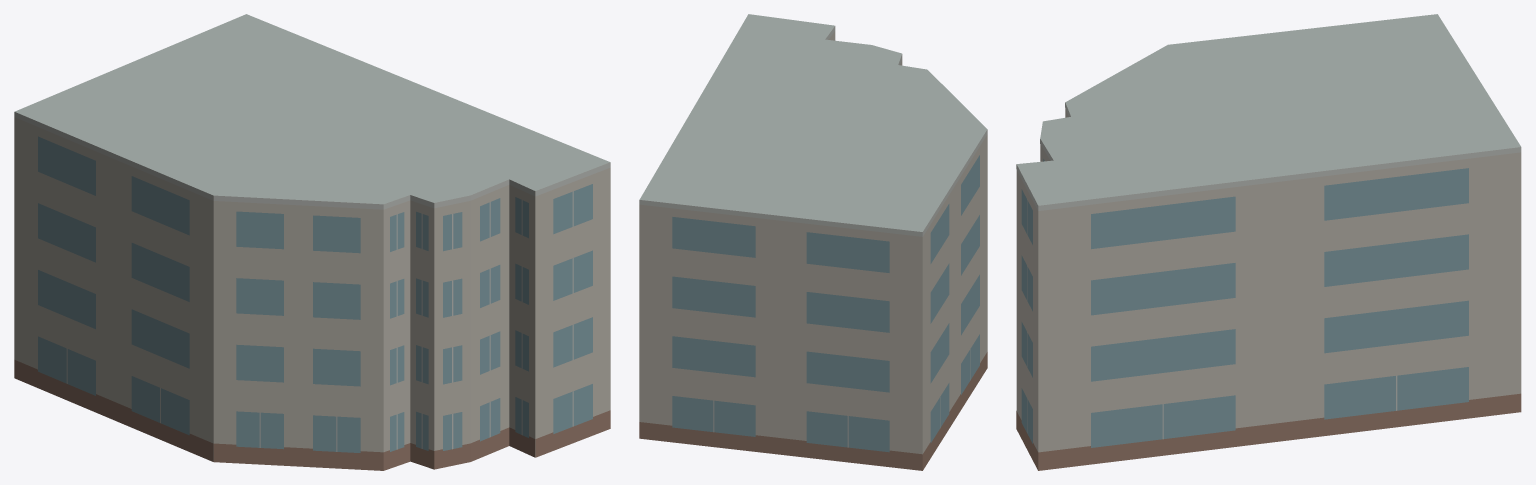
File: survey-upis-32992409.glb
The picture shows the model from 3 angles, left to right: view 1: azimuth 30°, elevation 25°; view 2: azimuth 150°, elevation 25°; view 3: azimuth 270°, elevation 25°; orthographic projection. The views are drawn at different scales.
Parts seen in each view (by area): view 1: survey-upis-32992409.tmp; view 2: survey-upis-32992409.tmp; view 3: survey-upis-32992409.tmp.
Boxes of the visible parts, bbox=[...] form: survey-upis-32992409.tmp: bbox=[14, 14, 610, 470]; survey-upis-32992409.tmp: bbox=[639, 14, 987, 470]; survey-upis-32992409.tmp: bbox=[1016, 14, 1521, 470].
Bounding box in the file's own units: 18.87 × 12.15 × 20.98.
